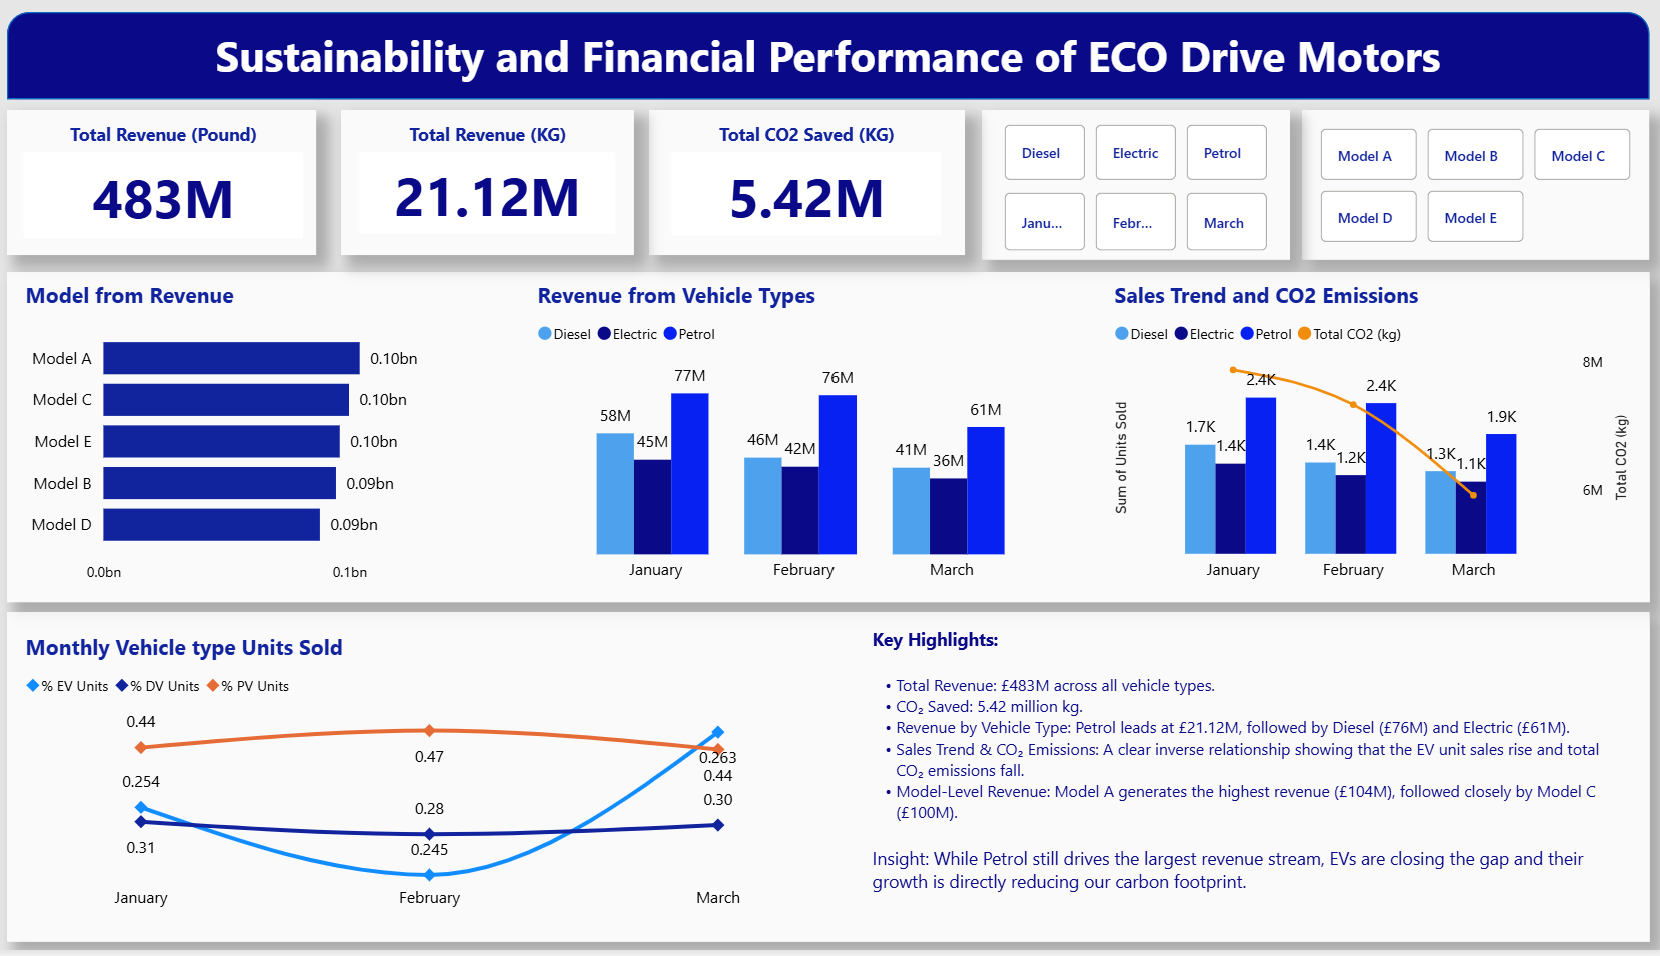

The dashboard page shown, as its layout file describes it:
{"tool":"powerbi","page":{"name":"Sustainability and Financial Performance","canvas":[1280,720],"ordinal":1},"visuals":[{"type":"shape","box":[1000,83.3,263.3,113.3],"z":0},{"type":"shape","box":[757.1,83.7,233.7,113.3],"z":1000},{"type":"shape","box":[18.9,83.3,234.4,110],"z":2000},{"type":"shape","box":[17.9,206,1244.8,250.7],"z":3000},{"type":"shape","box":[17.9,463.9,1244.8,249.9],"z":4000},{"type":"lineClusteredColumnComboChart","title":"Sales Trend and CO2 Emissions","fields":{"Category":["Order Details.Date of Sale.Variation.Date Hierarchy.Month"],"Y":["Sum(Order Details.Units Sold)"],"Y2":["Customer Table.Total CO2 (kg)"],"Series":["Products.Vehicle Type"]},"box":[852.2,212.2,400,237.8],"z":5000},{"type":"clusteredColumnChart","title":"Revenue from Vehicle Types","fields":{"Category":["Order Details.Date of Sale.Variation.Date Hierarchy.Month"],"Y":["Customer Table.Total Revenue"],"Series":["Products.Vehicle Type"]},"box":[415.5,212.2,412.8,238.2],"z":6000},{"type":"cardVisual","title":"Total Revenue (Pound)","fields":{"Data":["Customer Table.Total Revenue"]},"box":[25.6,92.2,222.2,93.3],"z":7000},{"type":"lineChart","title":"Monthly Vehicle type Units Sold","fields":{"Category":["Order Details.Date of Sale.Variation.Date Hierarchy.Month"],"Y2":["Customer Table.% DV Units","Customer Table.% PV Units"],"Y":["Customer Table.% EV Units"]},"box":[27.6,478.6,622.4,219.4],"z":8000},{"type":"advancedSlicerVisual","fields":{"Values":["Order Details.Date of Sale.Variation.Date Hierarchy.Month"]},"box":[768.4,140.8,211.2,54.1],"z":9000},{"type":"barChart","title":"Model from Revenue ","fields":{"Category":["Products.Model Name"],"Y":["Customer Table.Total Revenue"]},"box":[27.8,212.2,362.7,238.2],"z":10000},{"type":"shape","box":[17.9,9,1244.8,66.3],"z":11000},{"type":"textbox","box":[149.6,15.2,980.6,53.7],"z":12000},{"type":"advancedSlicerVisual","fields":{"Values":["Order Details.Model Name"]},"box":[1008.9,92.2,246.7,96.7],"z":13000},{"type":"advancedSlicerVisual","fields":{"Values":["Order Details.Vehicle Type"]},"box":[769.4,88.8,210.2,52],"z":14000},{"type":"shape","box":[505.6,83.3,238.9,110],"z":15000},{"type":"cardVisual","title":"Total CO2 Saved (KG)","fields":{"Data":["Customer Table.CO2 Saved (kg)"]},"box":[517.8,92.2,214.4,91.1],"z":16000},{"type":"shape","box":[272.2,83.3,222.2,110],"z":17000},{"type":"cardVisual","title":"Total Revenue (KG)","fields":{"Data":["Customer Table.Total CO2 (kg)"]},"box":[281.1,92.2,204.4,90],"z":18000},{"type":"textbox","box":[668.4,470.4,583.7,235.7],"z":19000}]}

Visuals, with their boxes in screenshot pixels (x1, y1, x2, y2), scaled from the page's 1280x720 canvas onto the 1660x956 screenshot:
shape: [1297,111,1638,261]
shape: [982,111,1285,262]
shape: [25,111,328,257]
shape: [23,274,1638,606]
shape: [23,616,1638,948]
"Sales Trend and CO2 Emissions" lineClusteredColumnComboChart: [1105,282,1624,598]
"Revenue from Vehicle Types" clusteredColumnChart: [539,282,1074,598]
"Total Revenue (Pound)" cardVisual: [33,122,321,246]
"Monthly Vehicle type Units Sold" lineChart: [36,635,843,927]
advancedSlicerVisual - Order Details.Date of Sale.Variation.Date Hierarchy.Month: [997,187,1270,259]
"Model from Revenue " barChart: [36,282,506,598]
shape: [23,12,1638,100]
textbox: [194,20,1466,91]
advancedSlicerVisual - Order Details.Model Name: [1308,122,1628,251]
advancedSlicerVisual - Order Details.Vehicle Type: [998,118,1270,187]
shape: [656,111,966,257]
"Total CO2 Saved (KG)" cardVisual: [672,122,950,243]
shape: [353,111,641,257]
"Total Revenue (KG)" cardVisual: [365,122,630,242]
textbox: [867,625,1624,938]
